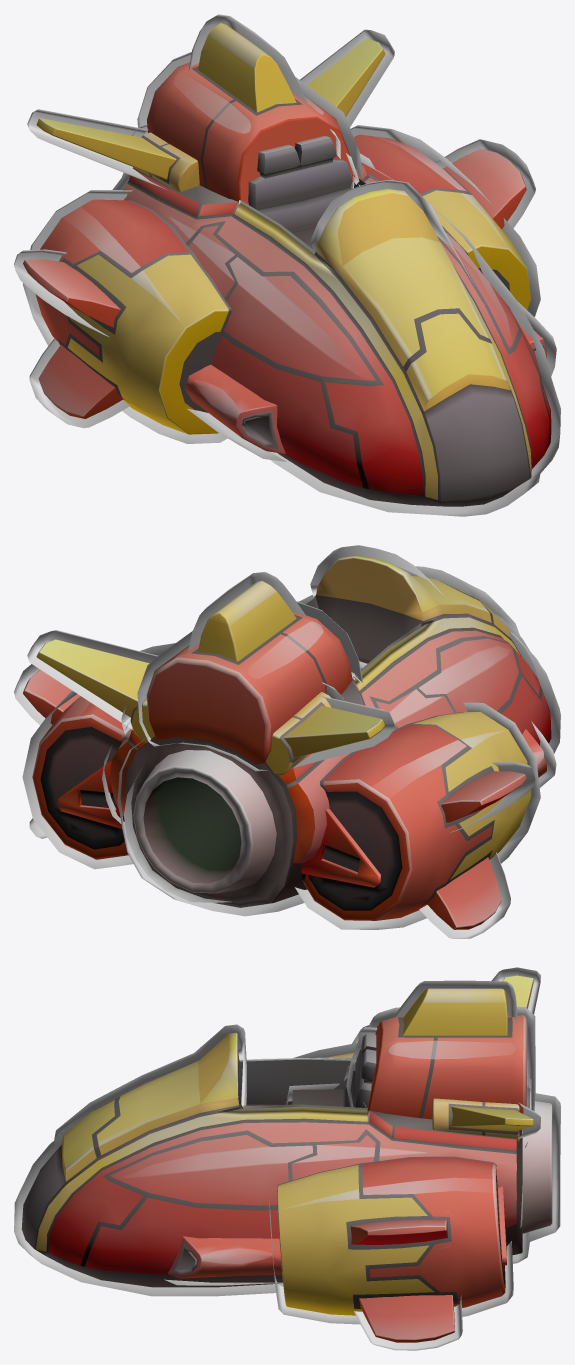
The model's file is pickup_IronBenAirplane_outline_MESH.glb.
The picture shows the model from 3 angles, top to bottom: view 1: azimuth 30°, elevation 25°; view 2: azimuth 150°, elevation 25°; view 3: azimuth 270°, elevation 25°; orthographic projection. The views are drawn at different scales.
Visible parts, largest first — view 1: pickup_IronBenPlane_outline; view 2: pickup_IronBenPlane_outline; view 3: pickup_IronBenPlane_outline.
Part boxes in pixels (x1,y1,x2,y2): pickup_IronBenPlane_outline: (14,14,560,516); pickup_IronBenPlane_outline: (14,545,560,938); pickup_IronBenPlane_outline: (14,967,560,1350).
Bounding box in the file's own units: 0.757 × 0.4869 × 0.8264.
